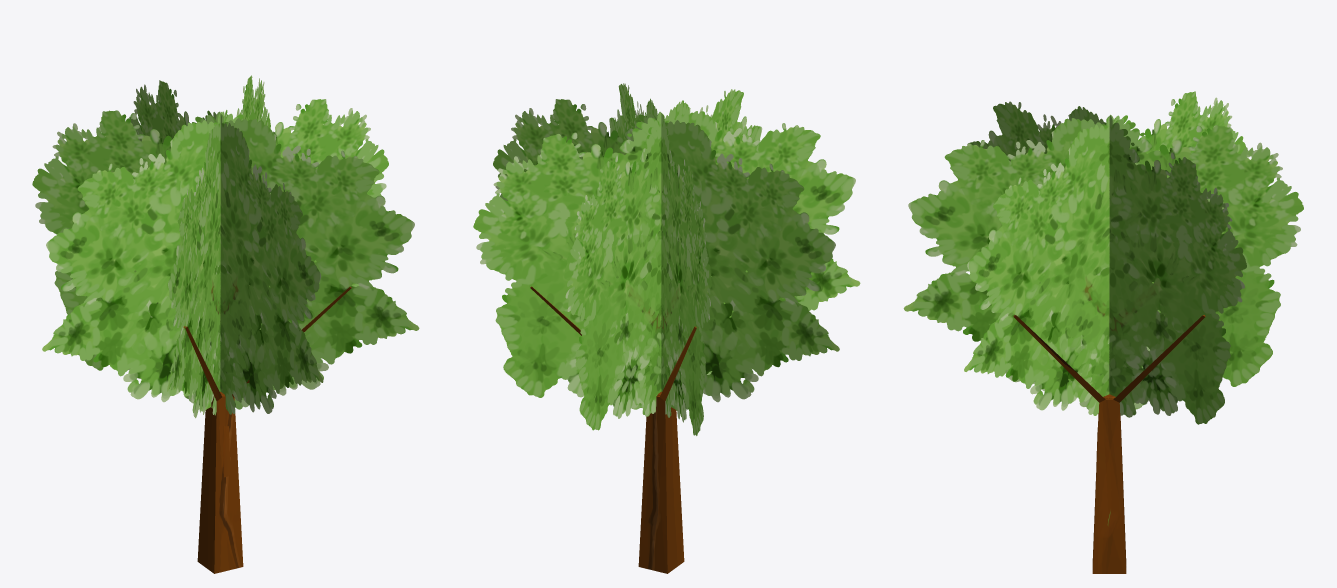
File: Tree01LOD2.fbx
The picture shows the model from 3 angles, left to right: view 1: azimuth 30°, elevation 25°; view 2: azimuth 150°, elevation 25°; view 3: azimuth 270°, elevation 25°; orthographic projection.
Parts seen in each view (by area): view 1: LeaveLodTWO.001, LeaveLodTWO, LeaveLodTWO.002, LeaveLodTWO.003, Wood; view 2: LeaveLodTWO.003, LeaveLodTWO.001, LeaveLodTWO.002, LeaveLodTWO, Wood; view 3: LeaveLodTWO.003, LeaveLodTWO, LeaveLodTWO.002, Wood.
Part boxes in pixels (x1,y1,x2,y2): LeaveLodTWO.001: (42, 99, 388, 411); LeaveLodTWO: (32, 110, 419, 409); LeaveLodTWO.002: (129, 80, 323, 414); LeaveLodTWO.003: (167, 75, 270, 418); Wood: (183, 286, 351, 573); LeaveLodTWO.003: (473, 111, 860, 409); LeaveLodTWO.001: (493, 99, 839, 410); LeaveLodTWO.002: (564, 89, 762, 430); LeaveLodTWO: (609, 83, 711, 435); Wood: (530, 286, 696, 573); LeaveLodTWO.003: (967, 101, 1246, 424); LeaveLodTWO: (964, 91, 1245, 415); LeaveLodTWO.002: (903, 115, 1303, 409); Wood: (1013, 315, 1205, 573).
Size of the model in its own units: 430 by 515 by 430.
